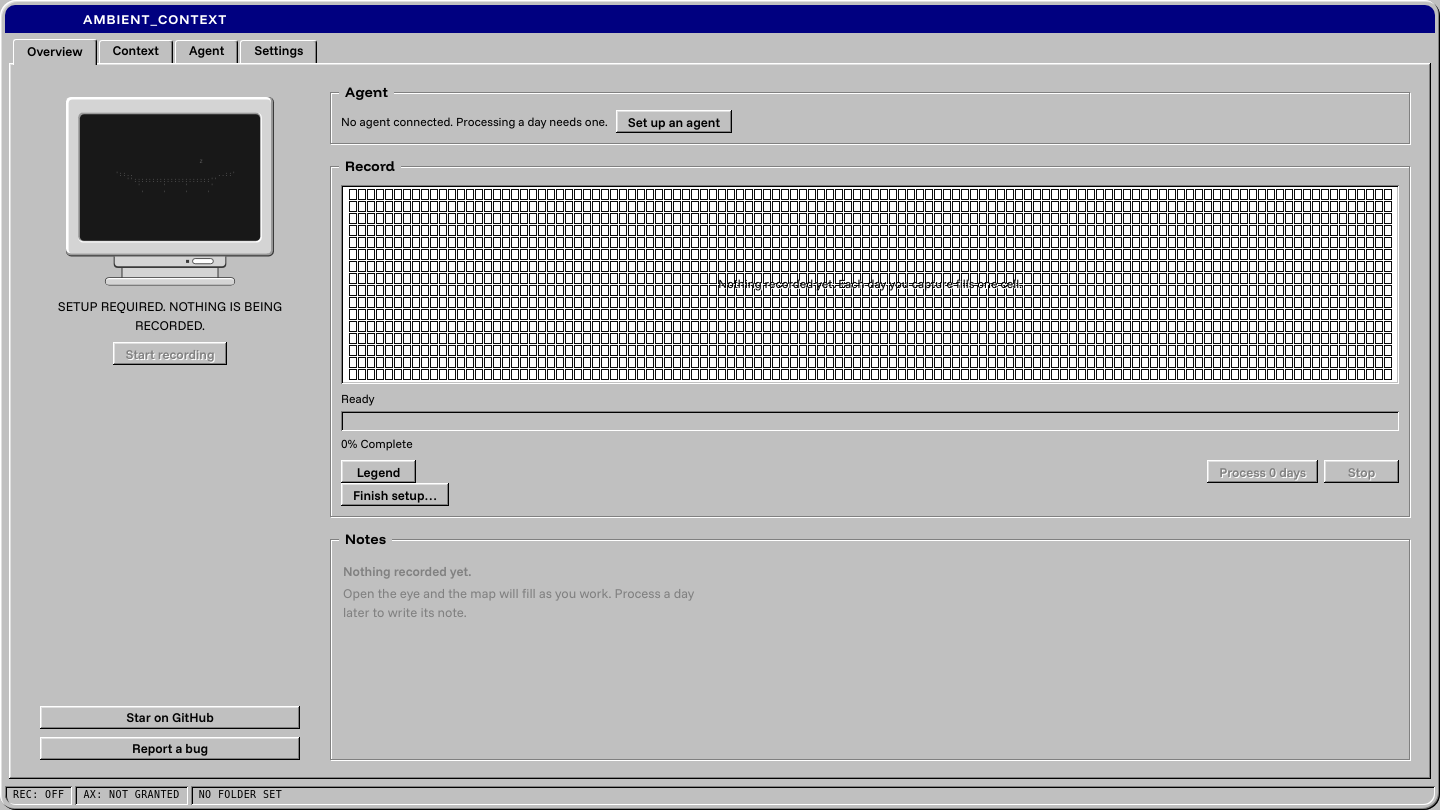
Test: the main window's tab strip › shows the agent options on the Agent tab, not in Settings
Click the tab "Agent" at (207, 51), box [175,40,238,63]
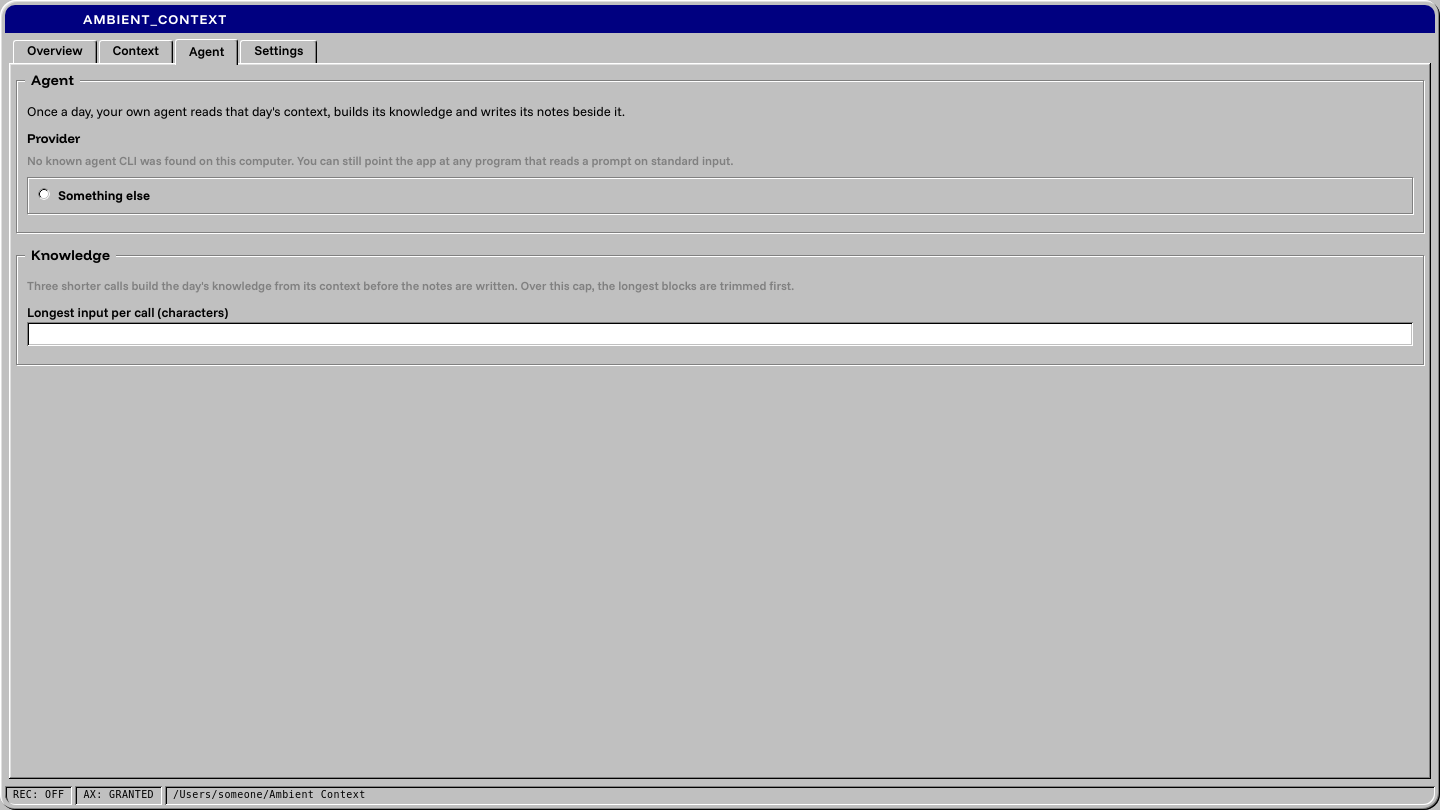
Check: the heading "Provider" is shown, box [27,130,80,146]
Click the tab "Settings" at (279, 51), box [240,40,317,63]
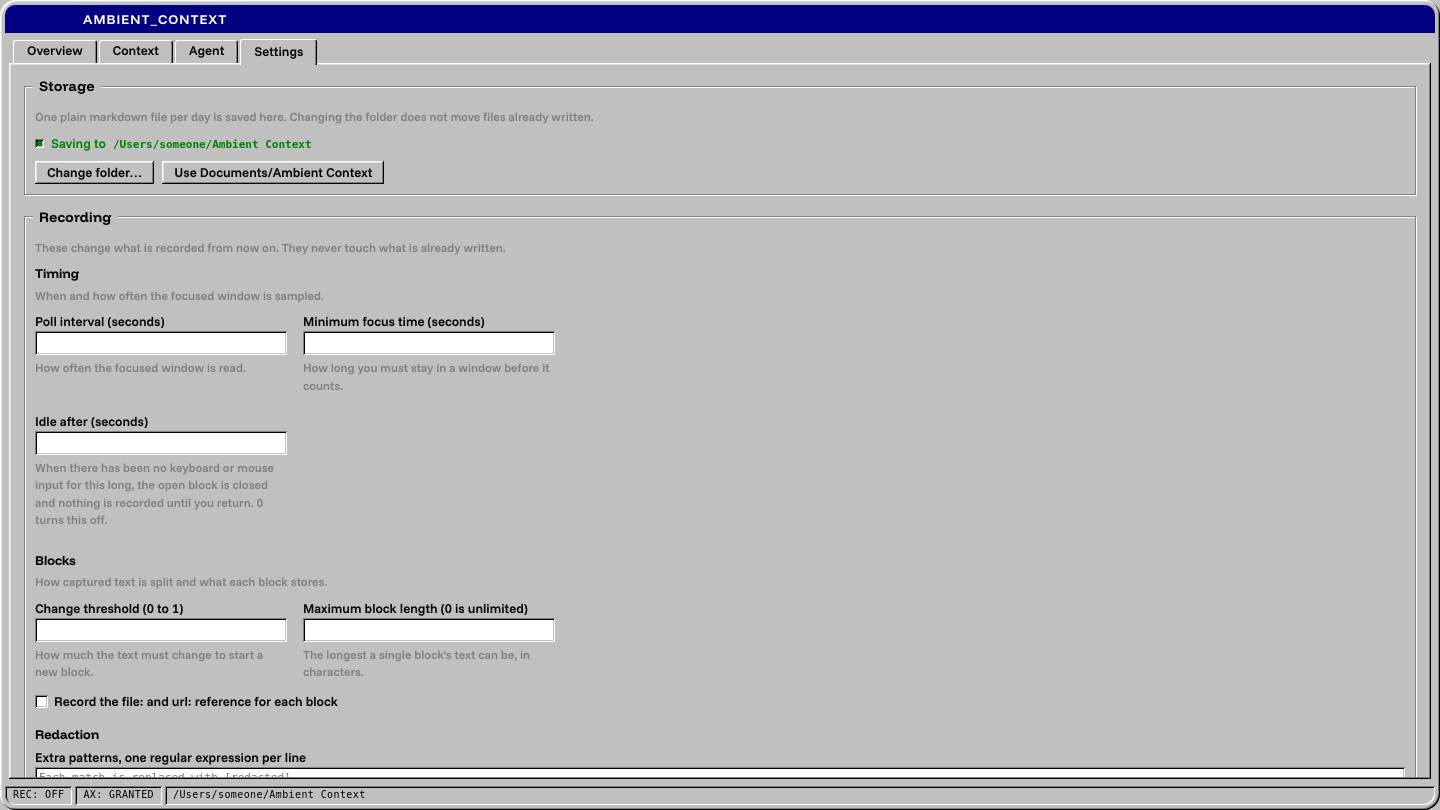
Check: the heading "Provider" is gone
